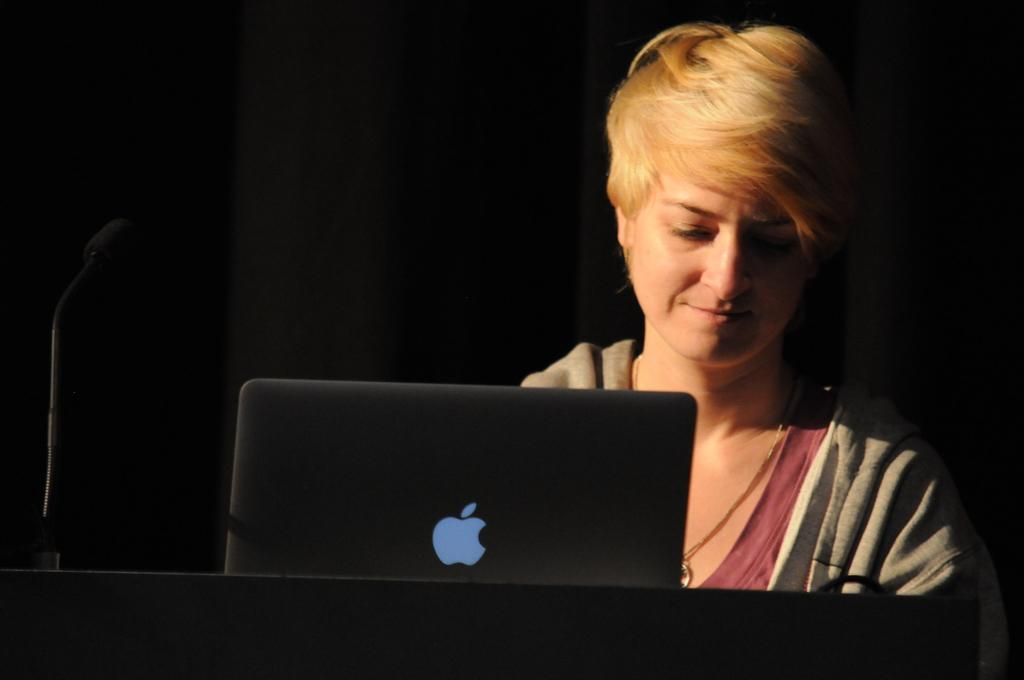Laptop: (239, 379, 707, 610)
